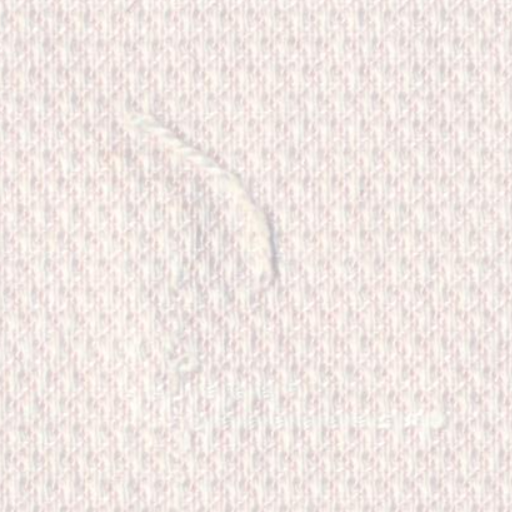DuanSha: (101, 95, 293, 294)
